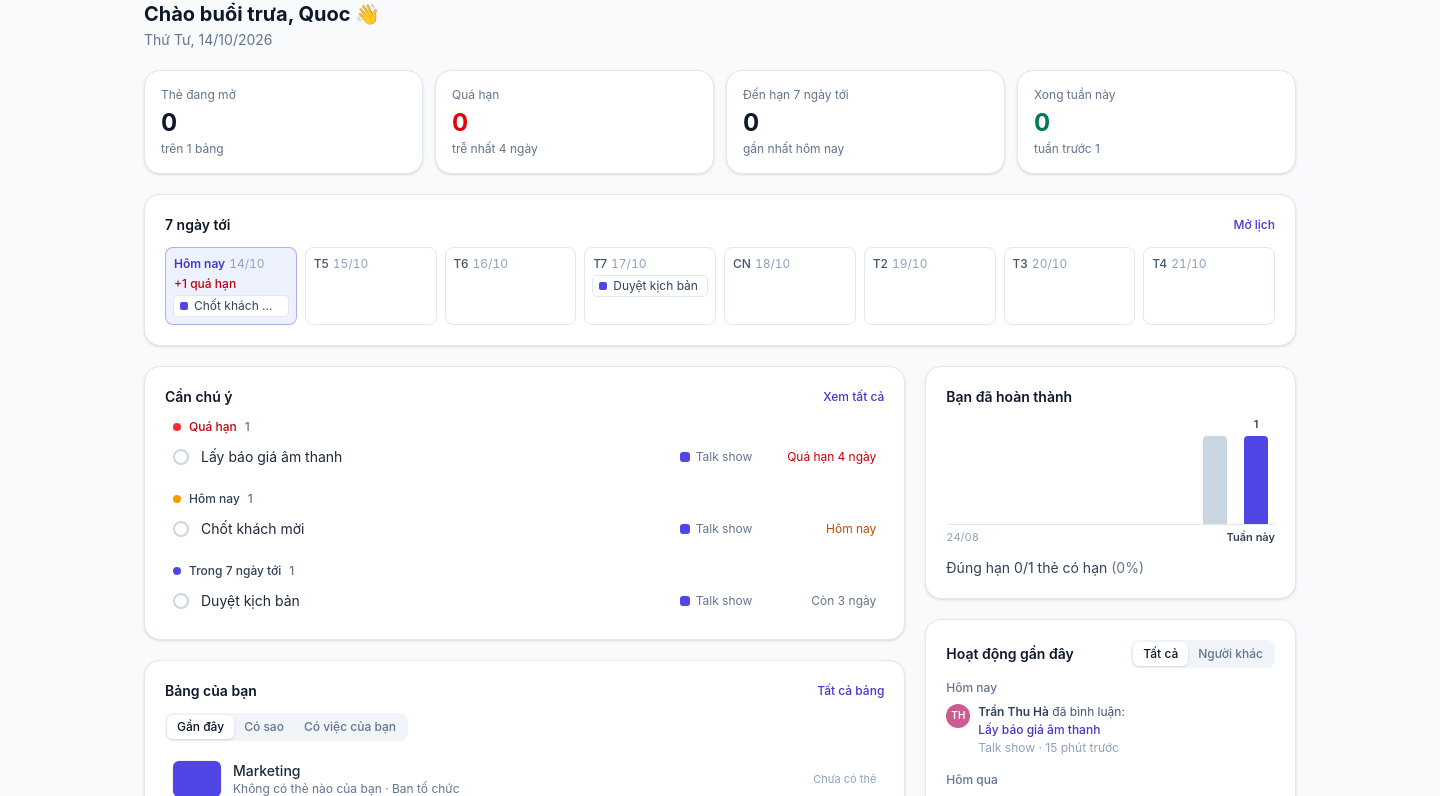
Test: Tổng quan: Hoạt động gần đây › chọn "Người khác": tải lại theo phạm vi, nhớ lựa chọn; trống thì có nút xem cả việc của mình
Expected: the element "Hôm nay" is shown, x1=946 y1=680 x2=1125 y2=754
Click the button "Người khác": (1231, 654) x1=1188 y1=642 x2=1273 y2=666
(page scrolled)
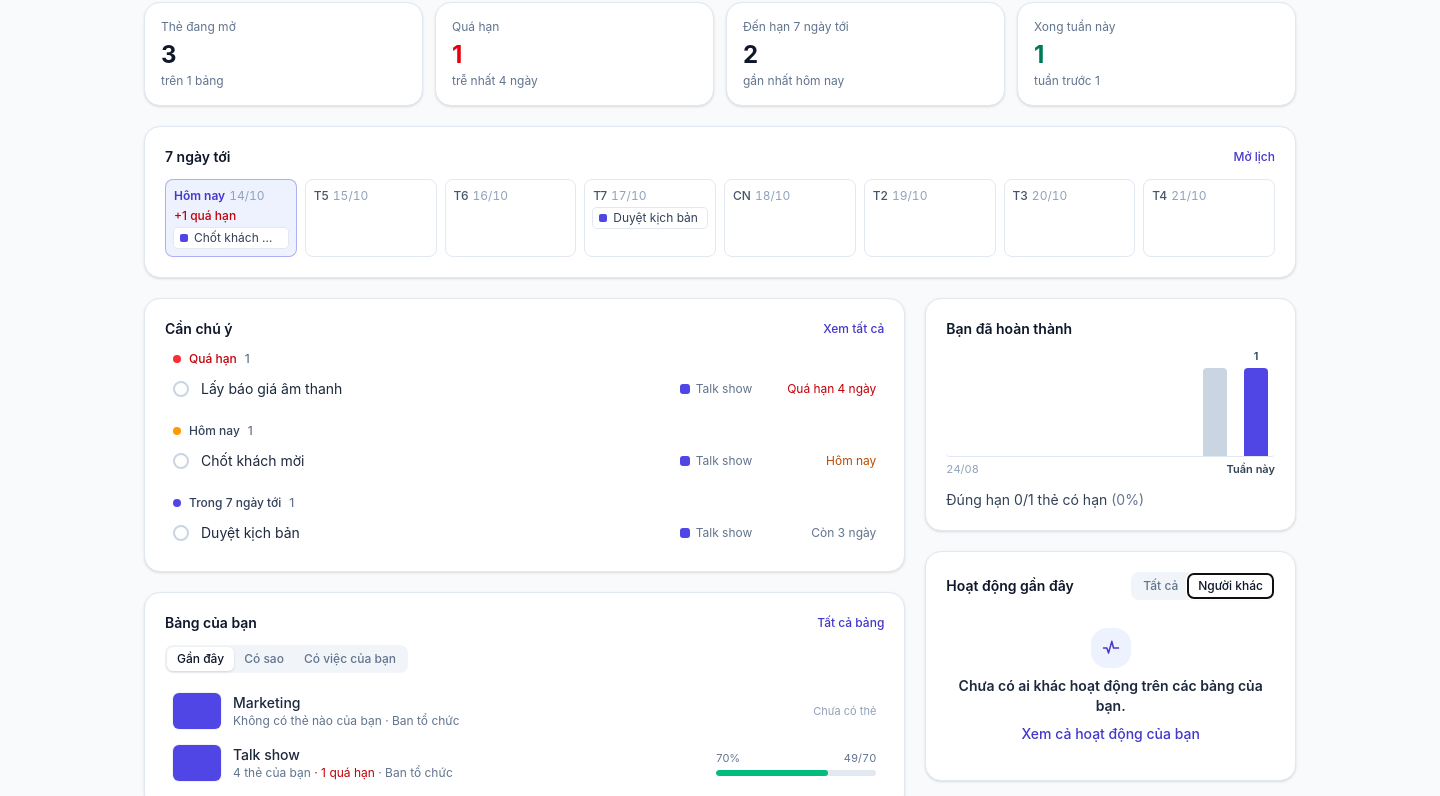
Now the text "Chưa có ai khác hoạt động trên các bảng của bạn." is shown, box x1=946 y1=676 x2=1275 y2=716
Click the button "Xem cả hoạt động của bạn": (1111, 734) x1=1021 y1=724 x2=1200 y2=744
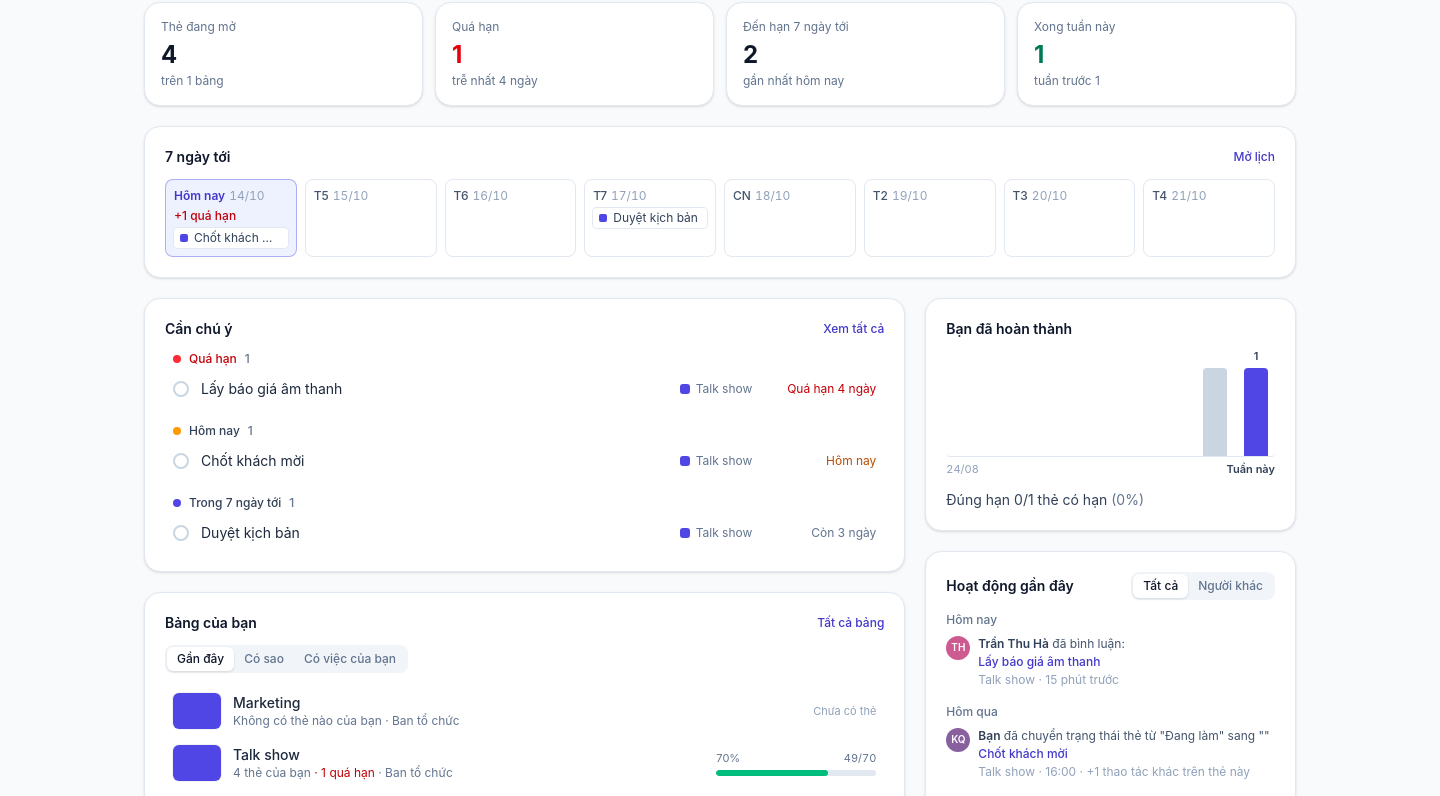
Now the element "Hôm nay" is shown, box x1=946 y1=612 x2=1125 y2=686
